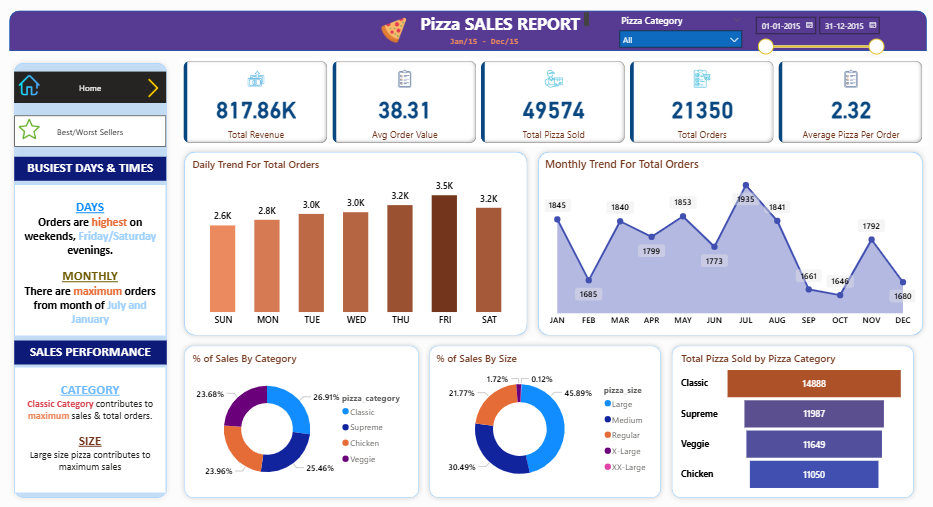

What the dashboard file says about the page in this screenshot:
{"tool":"powerbi","page":{"name":"Home","canvas":[1500,820],"ordinal":0},"visuals":[{"type":"shape","box":[18.3,96.7,260,711.7],"z":0},{"type":"cardVisual","fields":{"Data":["pizza_sales.Total Revenue","pizza_sales.Avg Order Value","pizza_sales.Total Pizza Sold","pizza_sales.Total Orders","pizza_sales.Average Pizza Per Order"]},"box":[291.7,96.7,1195,141.7],"z":1000},{"type":"shape","box":[18.3,20,1468.3,65],"z":2000},{"type":"textbox","box":[664.4,18.9,286.7,50],"z":3000},{"type":"textbox","box":[718.3,53.3,135.8,31.7],"z":4000},{"type":"image","box":[601.7,26.7,61.7,51.7],"z":5000},{"type":"shape","box":[290,238.3,565,310],"z":6000},{"type":"columnChart","title":"Daily Trend For TotaI Orders","fields":{"Category":["pizza_sales.Order Day"],"Y":["pizza_sales.Total Orders"]},"box":[305,253.3,535,281.7],"z":7000},{"type":"shape","box":[855,238.3,631.7,310],"z":8000},{"type":"areaChart","title":"Monthly Trend For Total Orders","fields":{"Y":["pizza_sales.Total Orders"],"Category":["pizza_sales.Order Month"]},"box":[870,253.3,603.3,281.7],"z":9000},{"type":"shape","box":[290,548.3,391.7,260],"z":10000},{"type":"shape","box":[681.7,548.3,386.7,260],"z":11000},{"type":"shape","box":[1070,548.3,403.3,260],"z":12000},{"type":"donutChart","title":"% of Sales By Category","fields":{"Category":["pizza_sales.pizza_category"],"Y":["pizza_sales.Total Revenue"]},"box":[305,563.3,358.3,230],"z":13000},{"type":"donutChart","title":"% of Sales By Size","fields":{"Category":["pizza_sales.pizza_size"],"Y":["pizza_sales.Total Revenue"]},"box":[695,563.3,358.3,230],"z":14000},{"type":"funnel","title":"Total Pizza Sold by Pizza Category","fields":{"Category":["pizza_sales.pizza_category"],"Y":["pizza_sales.Total Pizza Sold"]},"box":[1088.3,563.3,366.7,230],"z":15000},{"type":"textbox","box":[26.7,253.3,243.3,38.3],"z":16000},{"type":"textbox","box":[26.9,297.7,243.1,243.1],"z":17000},{"type":"textbox","box":[26,548,244,38],"z":18000},{"type":"textbox","box":[26.9,590.8,243.1,202.3],"z":19000},{"type":"slicer","fields":{"Values":["pizza_sales.pizza_category"]},"box":[983.3,20,216.7,65],"z":20000},{"type":"slicer","fields":{"Values":["pizza_sales.order_date"]},"box":[1200,20,226.7,76.7],"z":21000},{"type":"pageNavigator","box":[26.7,118.3,243.3,50],"z":22000},{"type":"pageNavigator","box":[26.7,188.3,243.3,50],"z":23000},{"type":"image","box":[225,123.3,45,40],"z":24000},{"type":"image","box":[26.7,118.3,48.3,43.3],"z":25000},{"type":"image","box":[26.7,188.3,48.3,43.3],"z":26000}]}

Visuals, with their boxes in screenshot pixels (x1, y1, x2, y2), scaled from the page's 1500x820 canvas onto the 933x507 screenshot:
shape: (left=11, top=60, right=173, bottom=500)
cardVisual - pizza_sales.Total Revenue x pizza_sales.Avg Order Value: (left=181, top=60, right=925, bottom=147)
shape: (left=11, top=12, right=925, bottom=53)
textbox: (left=413, top=12, right=592, bottom=43)
textbox: (left=447, top=33, right=531, bottom=53)
image: (left=374, top=17, right=413, bottom=48)
shape: (left=180, top=147, right=532, bottom=339)
"Daily Trend For TotaI Orders" columnChart: (left=190, top=157, right=522, bottom=331)
shape: (left=532, top=147, right=925, bottom=339)
"Monthly Trend For Total Orders" areaChart: (left=541, top=157, right=916, bottom=331)
shape: (left=180, top=339, right=424, bottom=500)
shape: (left=424, top=339, right=665, bottom=500)
shape: (left=666, top=339, right=916, bottom=500)
"% of Sales By Category" donutChart: (left=190, top=348, right=413, bottom=490)
"% of Sales By Size" donutChart: (left=432, top=348, right=655, bottom=490)
"Total Pizza Sold by Pizza Category" funnel: (left=677, top=348, right=905, bottom=490)
textbox: (left=17, top=157, right=168, bottom=180)
textbox: (left=17, top=184, right=168, bottom=334)
textbox: (left=16, top=339, right=168, bottom=362)
textbox: (left=17, top=365, right=168, bottom=490)
slicer - pizza_sales.pizza_category: (left=612, top=12, right=746, bottom=53)
slicer - pizza_sales.order_date: (left=746, top=12, right=887, bottom=60)
pageNavigator: (left=17, top=73, right=168, bottom=104)
pageNavigator: (left=17, top=116, right=168, bottom=147)
image: (left=140, top=76, right=168, bottom=101)
image: (left=17, top=73, right=47, bottom=100)
image: (left=17, top=116, right=47, bottom=143)
